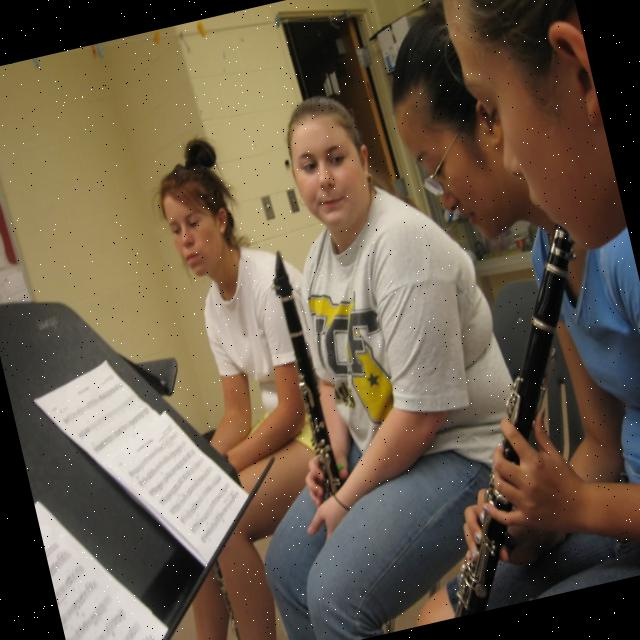clarinet: (367, 213, 640, 617), (264, 244, 346, 503)
